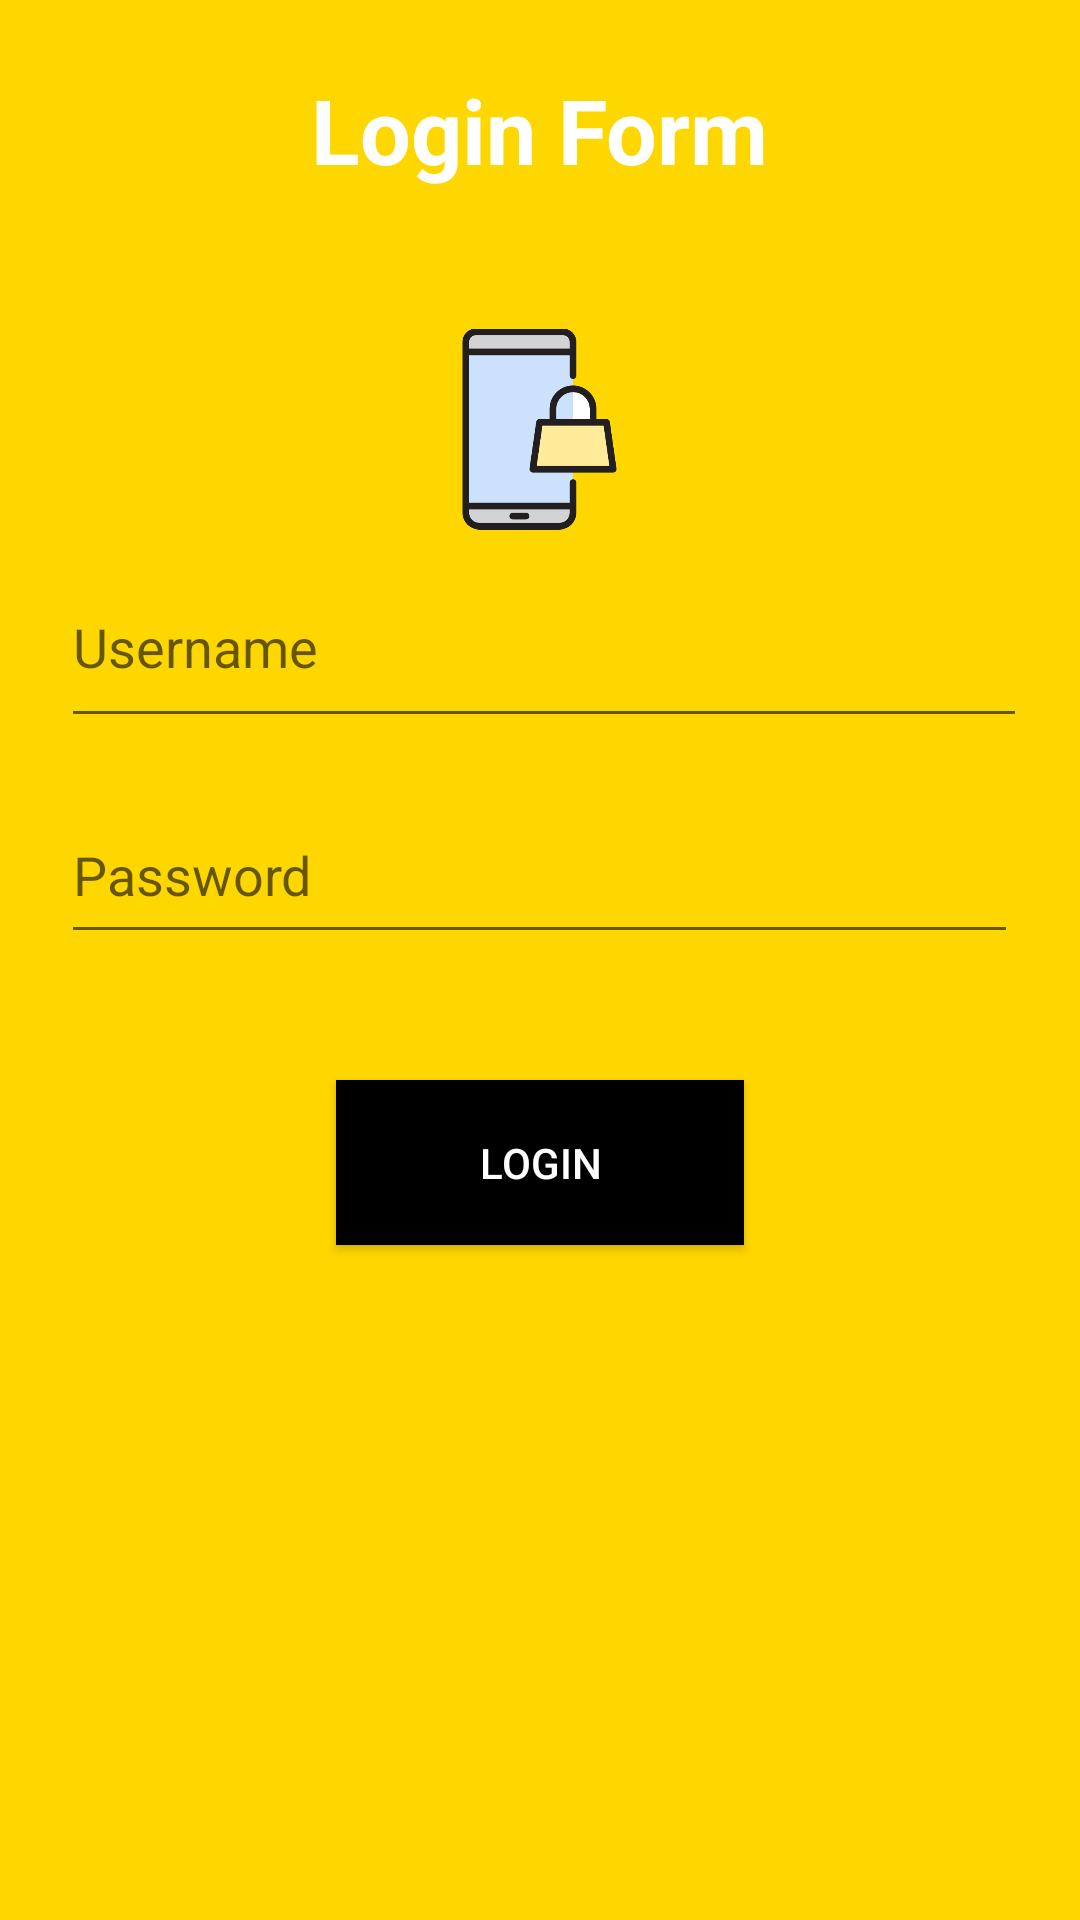

Screen size 1080 × 1920. Icon name, then its box in pixels as box=[x1, y1, x2, y2]:
padlock: box=[462, 329, 617, 530]
